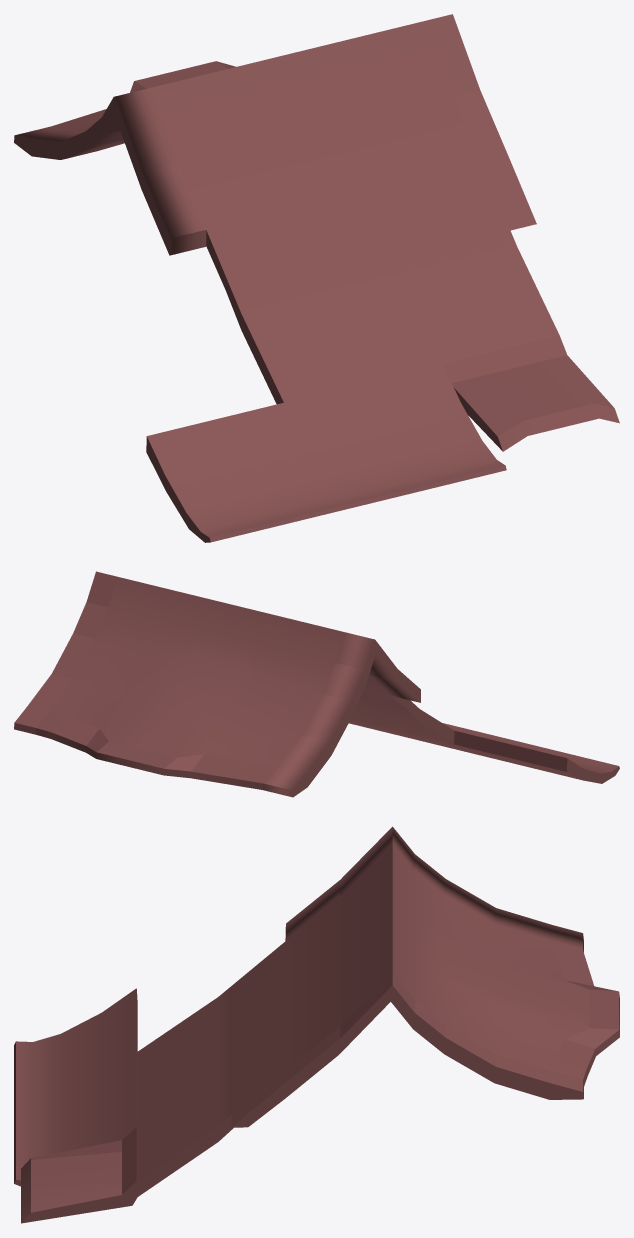
File: MainRoof02.fbx
The picture shows the model from 3 angles, top to bottom: view 1: azimuth 30°, elevation 25°; view 2: azimuth 150°, elevation 25°; view 3: azimuth 270°, elevation 25°; orthographic projection. The views are drawn at different scales.
Visible parts, largest first — view 1: MainRoof; view 2: MainRoof; view 3: MainRoof.
Boxes of the visible parts, x1=… form: MainRoof: x1=14, y1=14, x2=619, y2=542; MainRoof: x1=14, y1=571, x2=619, y2=797; MainRoof: x1=14, y1=826, x2=619, y2=1223.
Bounding box in the file's own units: 0.4499 × 0.2753 × 0.5599.
